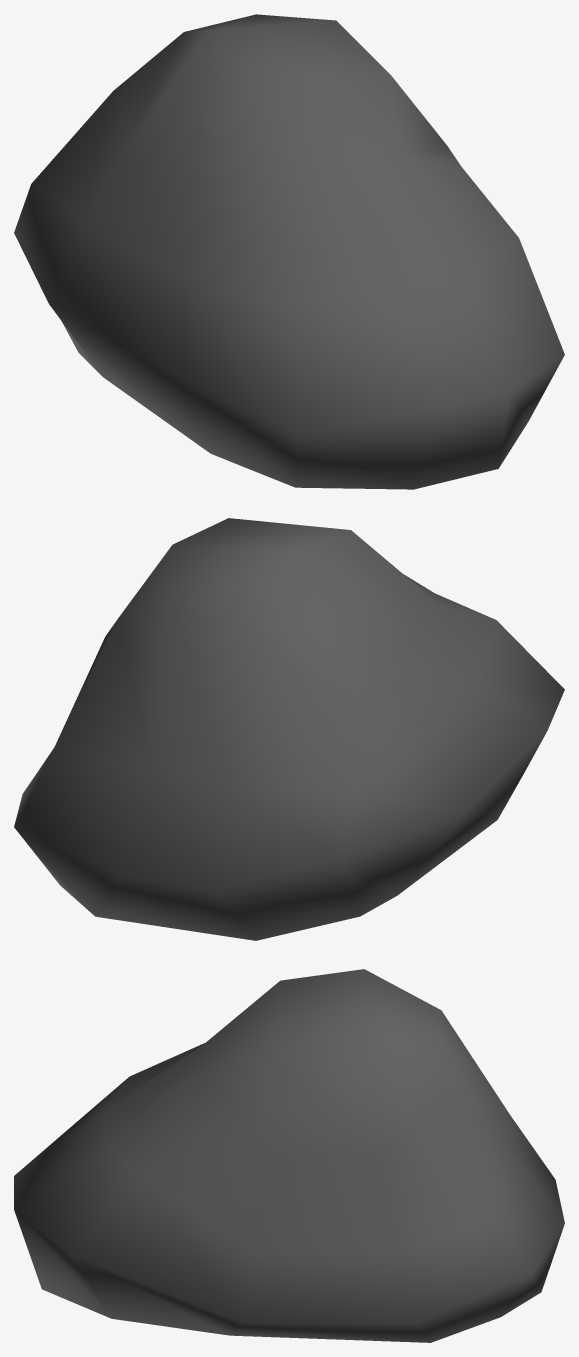
Rendered from SS_Rock_03.fbx.
3 views of the same model, one above another, from view 1: azimuth 30°, elevation 25°; view 2: azimuth 150°, elevation 25°; view 3: azimuth 270°, elevation 25° (orthographic). The views are drawn at different scales.
Parts seen in each view (by area): view 1: Cube.021; view 2: Cube.021; view 3: Cube.021.
Boxes of the visible parts, x1,y1,x2,y2 form: Cube.021: [14, 14, 564, 489]; Cube.021: [14, 518, 564, 940]; Cube.021: [14, 969, 564, 1342].
Size of the model in its own units: 76.19 by 56.4 by 101.
Materials: 1 (1 with a texture image).
